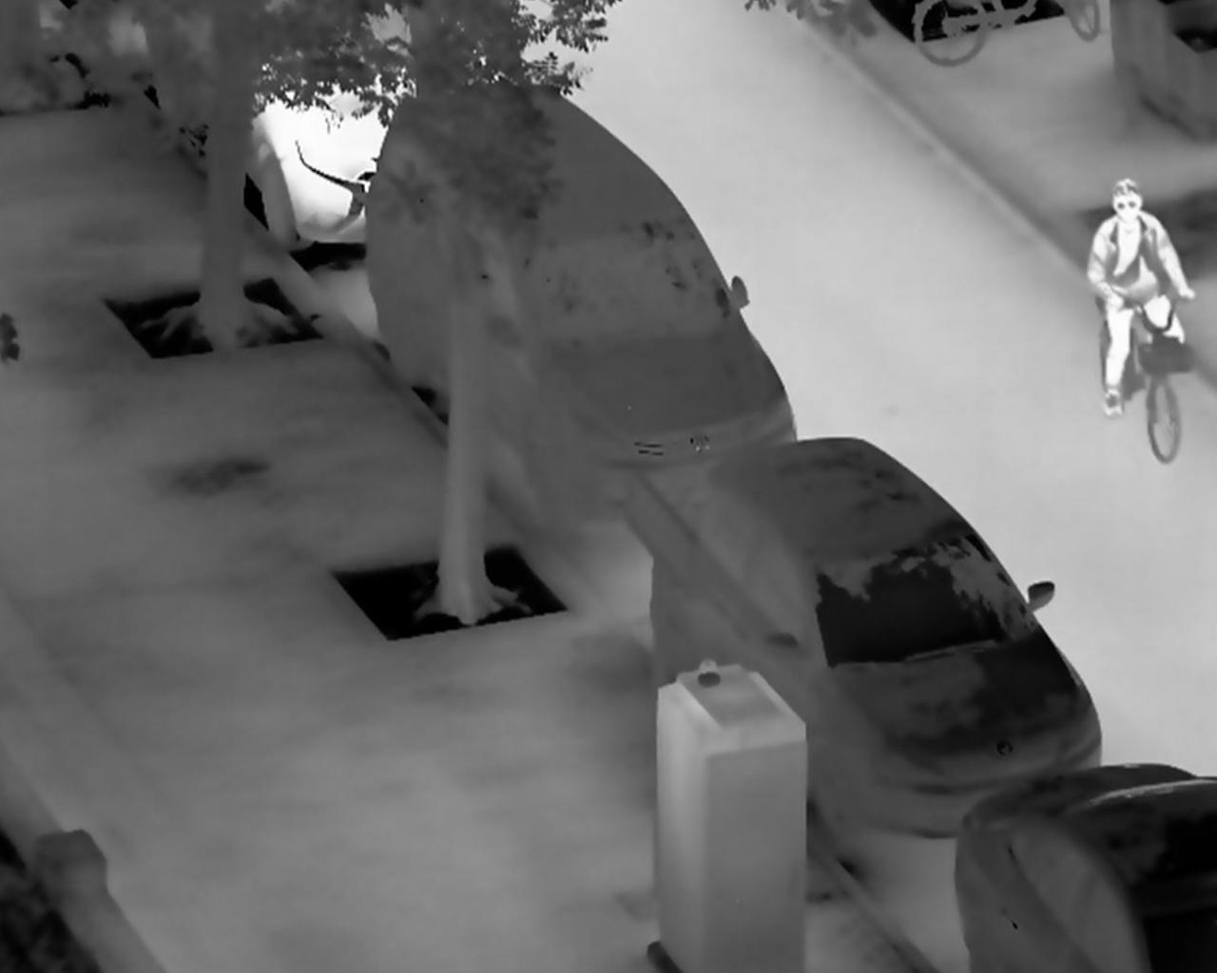person: (1083, 176, 1199, 420)
